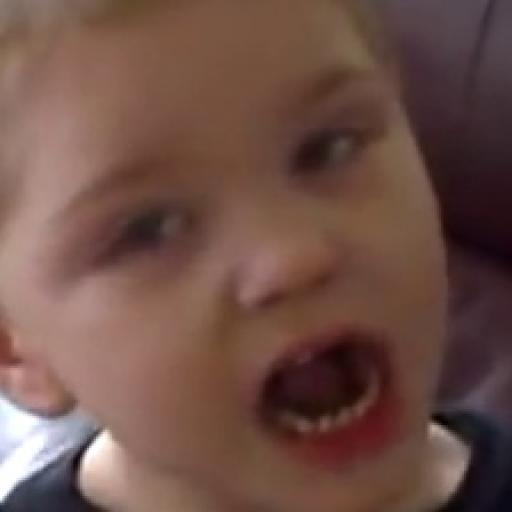Autism: (0, 1, 506, 512)
